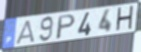4: (97, 7, 113, 35), (77, 11, 93, 37)
9: (38, 15, 54, 43)
A: (15, 19, 36, 45)
H: (115, 5, 135, 34)
P: (54, 13, 77, 41)
